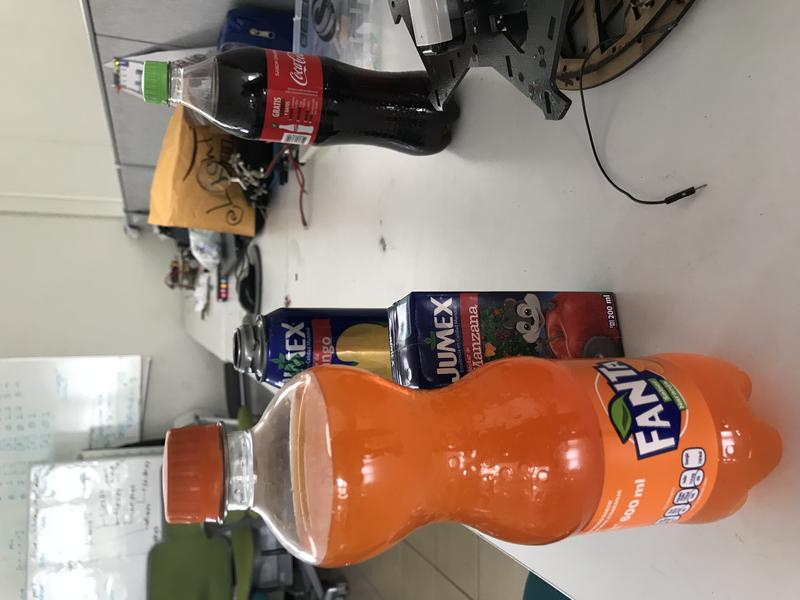coca_cola: (143, 47, 462, 157)
fanta: (162, 354, 786, 569)
jumex_botella: (233, 307, 404, 390)
jumex_cajita: (385, 291, 626, 390)
